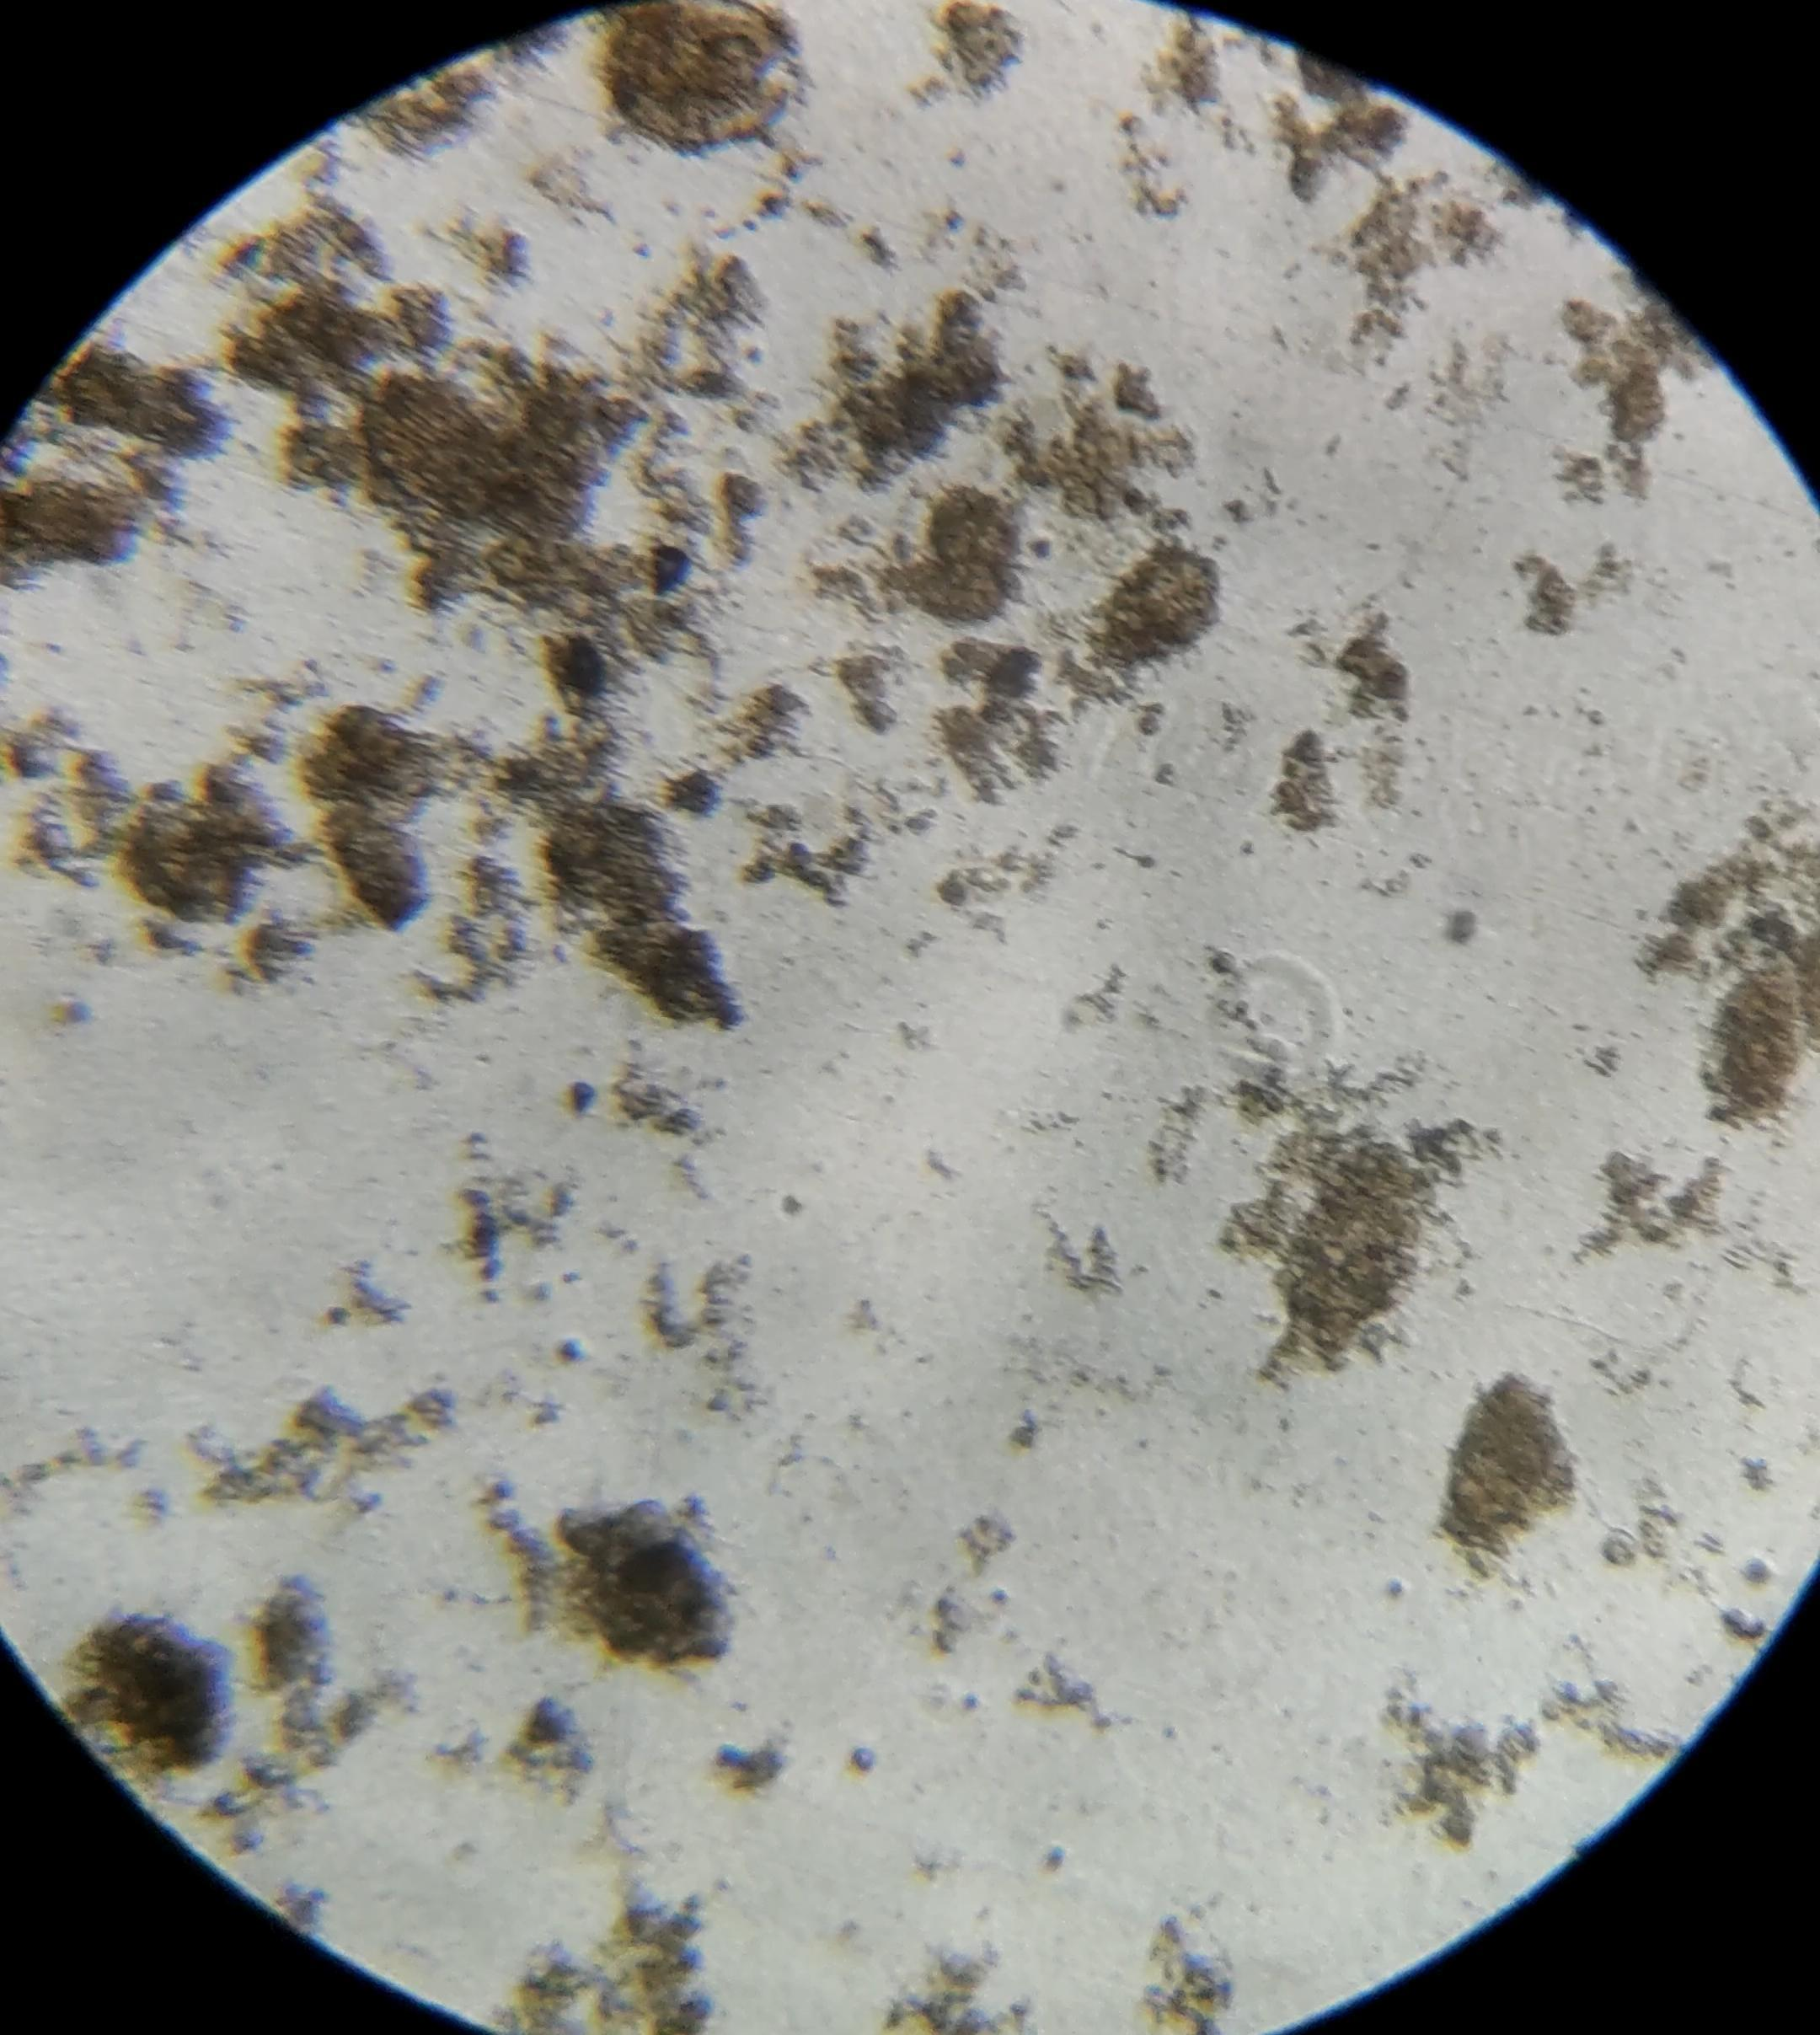Arcella: (617, 0, 789, 144)
